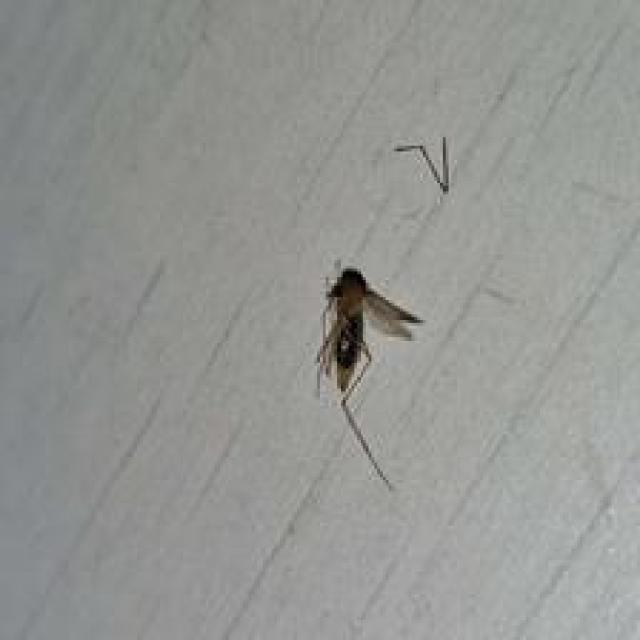Culex: (313, 263, 424, 491)
